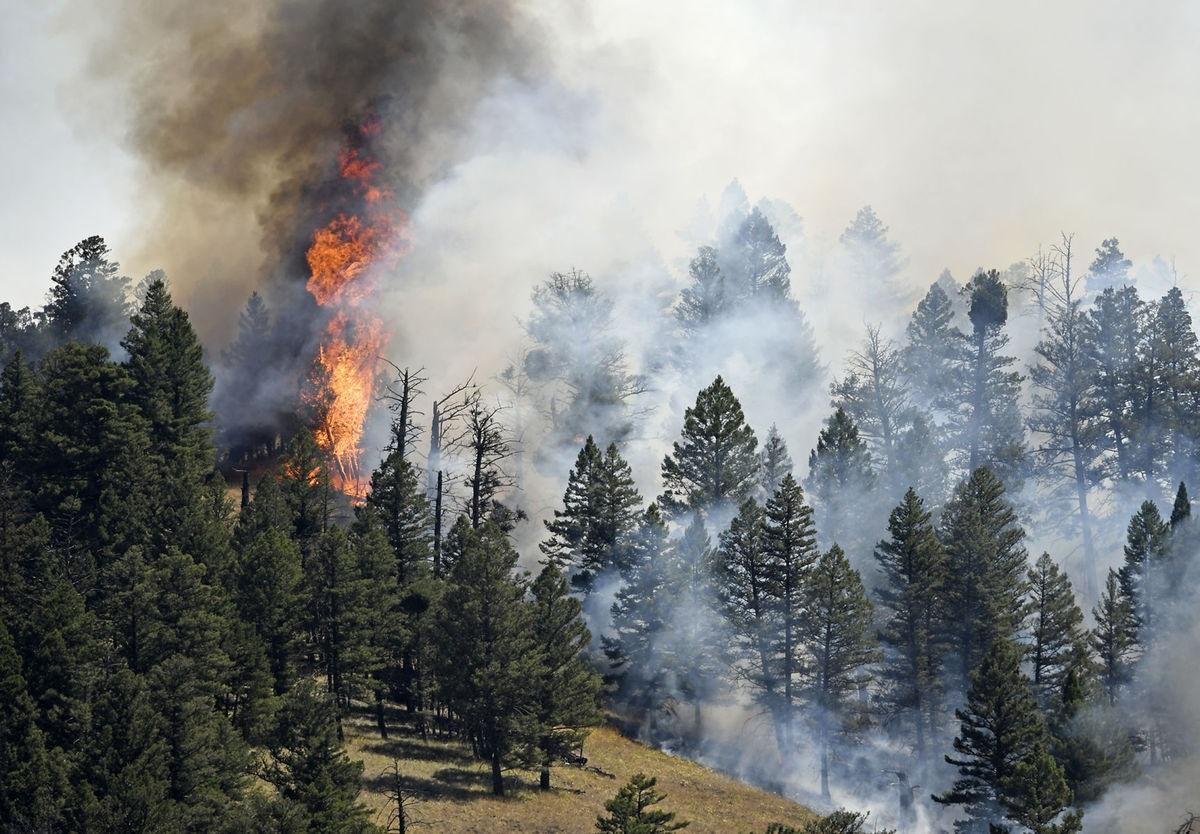Fire: (285, 137, 449, 517)
